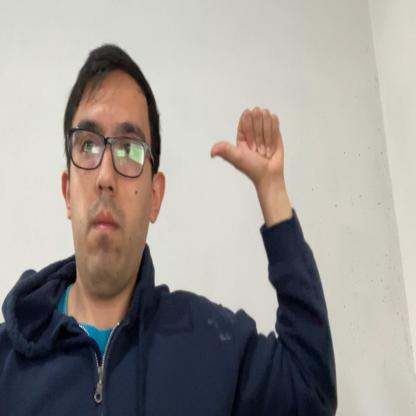A: (210, 106, 285, 178)
